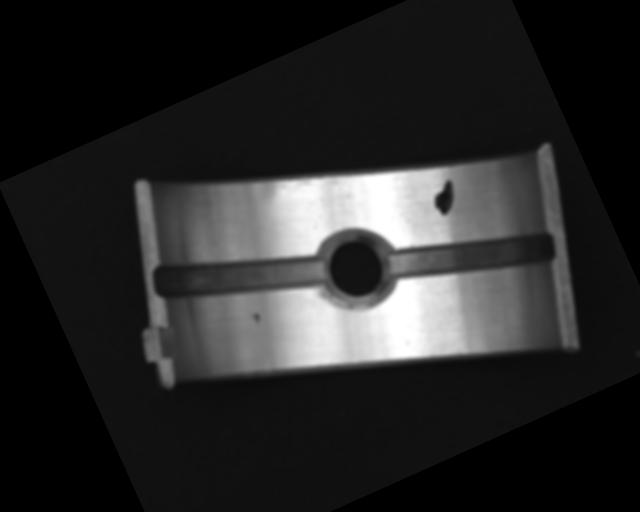blot: (427, 178, 464, 218)
bruise: (250, 311, 263, 325)
gap: (151, 206, 330, 345), (386, 191, 563, 322)
hole: (310, 220, 406, 320)
